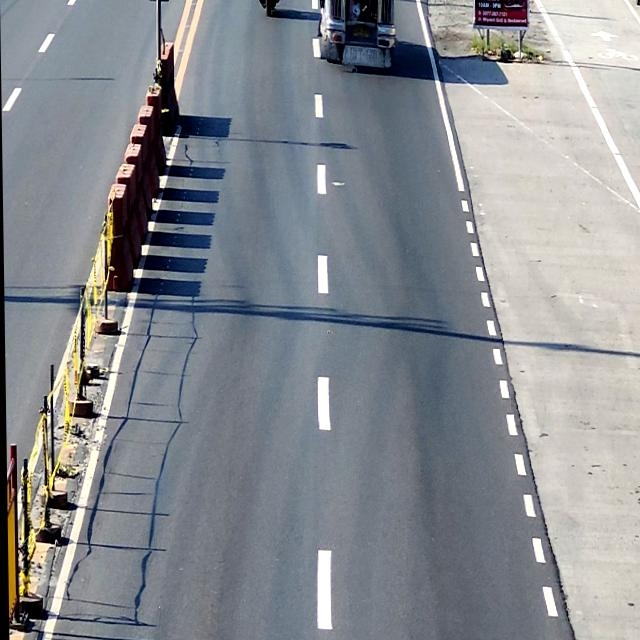Jeep: (318, 0, 394, 70)
License-Plate: (353, 26, 370, 38)
